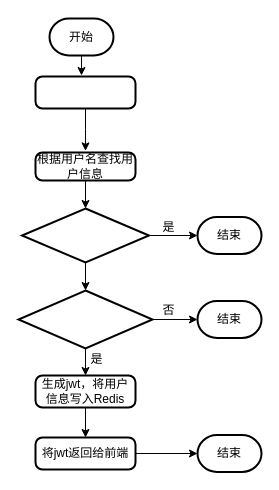
Image size: 279x490. Some labels were removed from this diagram. The shapes that lost their labels are listed below. From the top down, each one's box as (x1, y1, x2, y2) in pixels, then its label:
(34, 75, 136, 109): 用户请求登录
(20, 207, 150, 263): 查询结果是否为空
(17, 289, 153, 349): 密码比对是否通过
